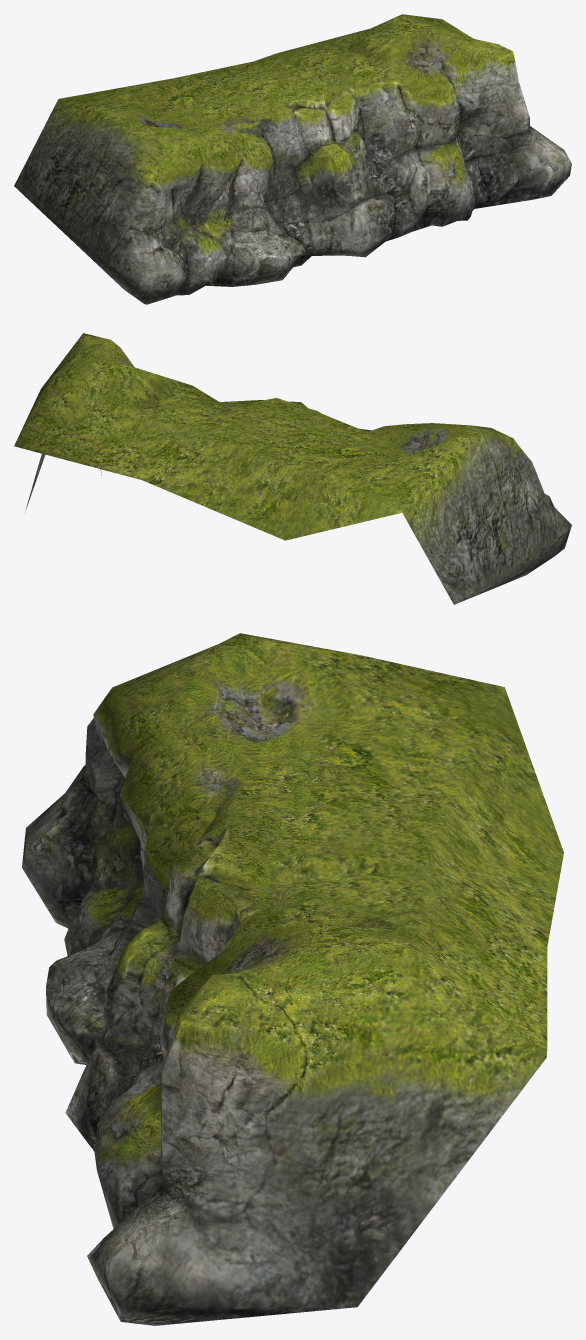
Rendered from cliff.glb.
3 views of the same model, one above another, from view 1: azimuth 30°, elevation 25°; view 2: azimuth 150°, elevation 25°; view 3: azimuth 270°, elevation 25° (orthographic). The views are drawn at different scales.
Parts seen in each view (by area): view 1: Object_2; view 2: Object_2; view 3: Object_2.
Boxes of the visible parts, x1,y1,x2,y2 form: Object_2: (14,14,571,304); Object_2: (14,333,571,604); Object_2: (22,633,563,1325).
Bounding box in the file's own units: 31.62 × 11.08 × 16.07.
Materials: 1 (1 with a texture image).
